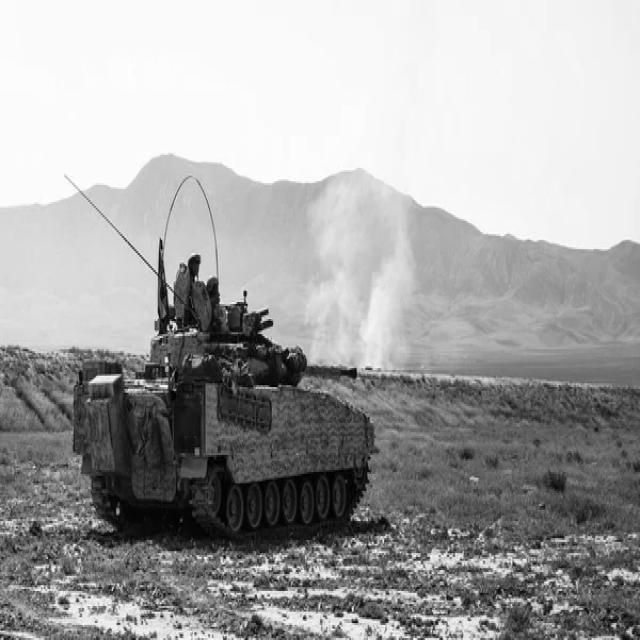Tank: (57, 169, 380, 530)
